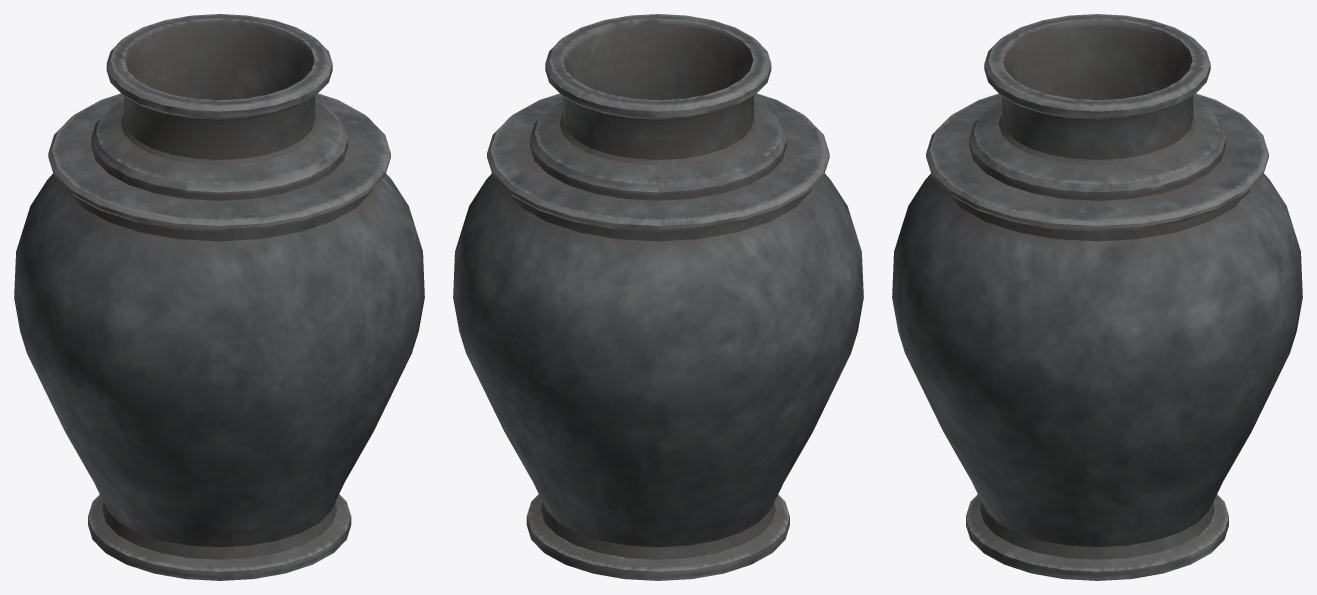
File: Mausoleum Vase 2.fbx
3 views of the same model, side by side, from view 1: azimuth 30°, elevation 25°; view 2: azimuth 150°, elevation 25°; view 3: azimuth 270°, elevation 25° (orthographic).
Visible parts, largest first — view 1: Cylinder.001; view 2: Cylinder.001; view 3: Cylinder.001.
Boxes of the visible parts, x1,y1,x2,y2 form: Cylinder.001: (14,14,424,580); Cylinder.001: (453,14,863,580); Cylinder.001: (892,14,1302,580).
Size of the model in its own units: 68.56 by 85.7 by 68.56.
